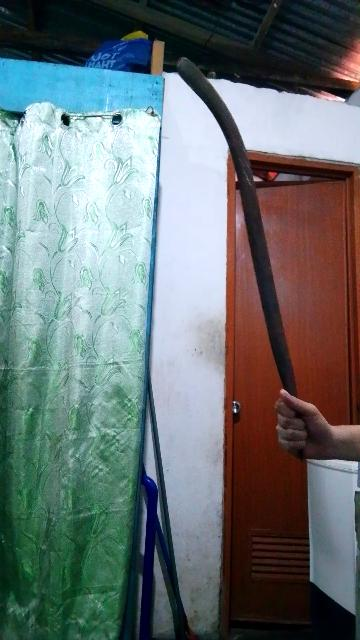long knife: (158, 52, 314, 458)
